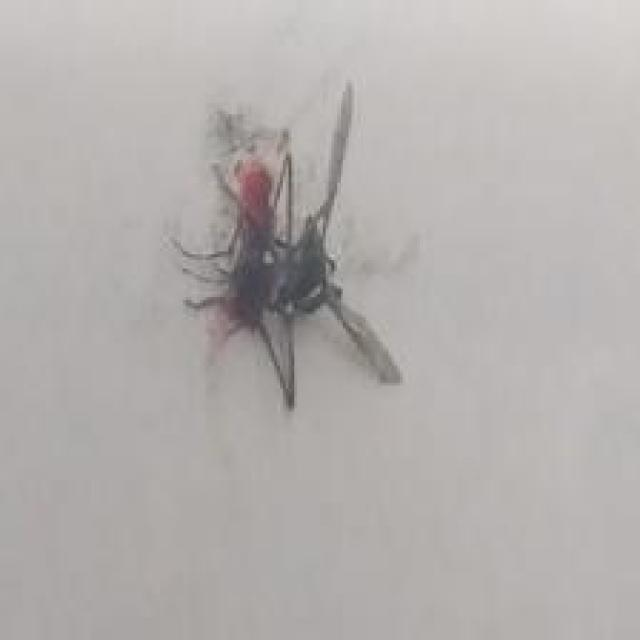Aedes albopictus: (167, 77, 404, 412)
